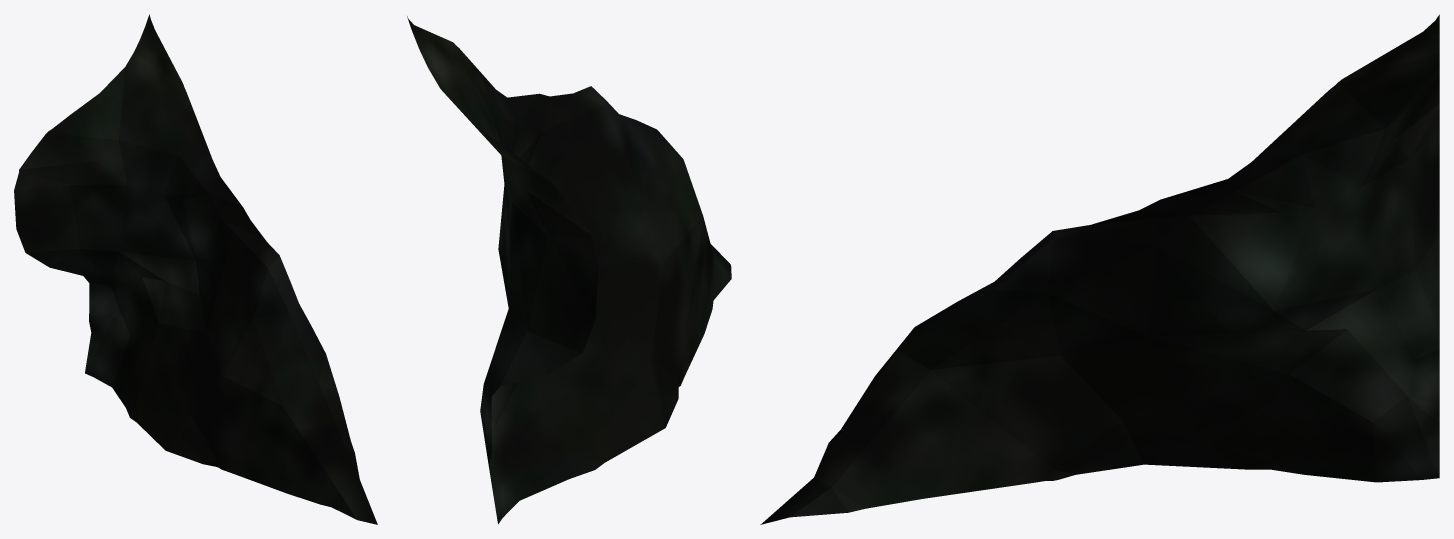
3 views of the same model, side by side, from view 1: azimuth 30°, elevation 25°; view 2: azimuth 150°, elevation 25°; view 3: azimuth 270°, elevation 25° (orthographic). The views are drawn at different scales.
Size of the model in its own units: 0.1541 by 0.3736 by 0.4502.
Materials: 1 (1 with a texture image).
